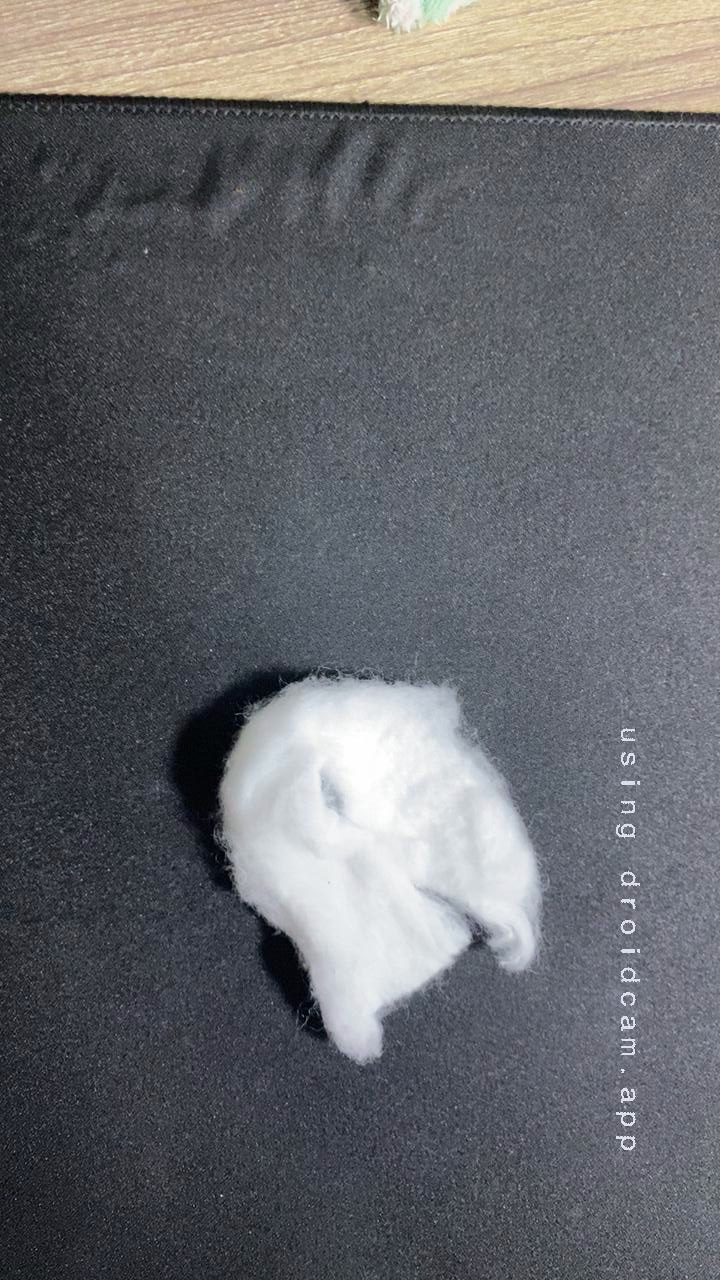cotton: (173, 666, 575, 1067)
